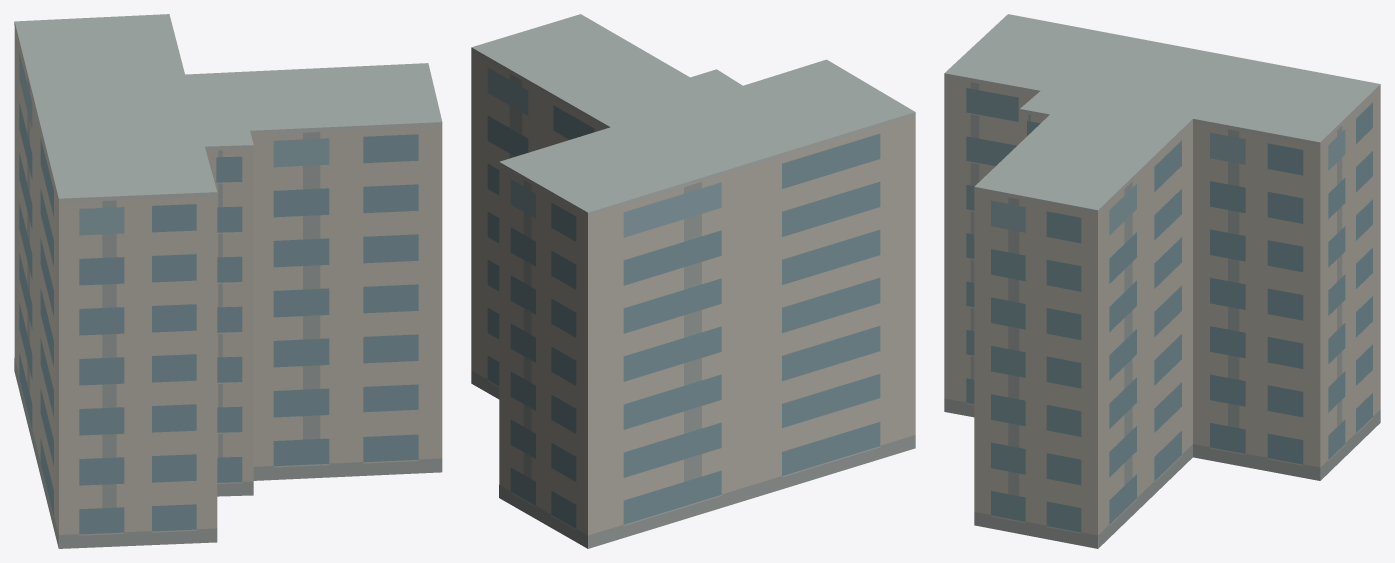
File: survey-upis-32569872.glb
3 views of the same model, side by side, from view 1: azimuth 30°, elevation 25°; view 2: azimuth 150°, elevation 25°; view 3: azimuth 270°, elevation 25° (orthographic). The views are drawn at different scales.
Visible parts, largest first — view 1: survey-upis-32569872.tmp; view 2: survey-upis-32569872.tmp; view 3: survey-upis-32569872.tmp.
Part boxes in pixels (x1=…): survey-upis-32569872.tmp: x1=14, y1=14, x2=442, y2=548; survey-upis-32569872.tmp: x1=471, y1=14, x2=915, y2=548; survey-upis-32569872.tmp: x1=944, y1=14, x2=1380, y2=548.
Bounding box in the file's own units: 24.75 × 19.9 × 23.25.
